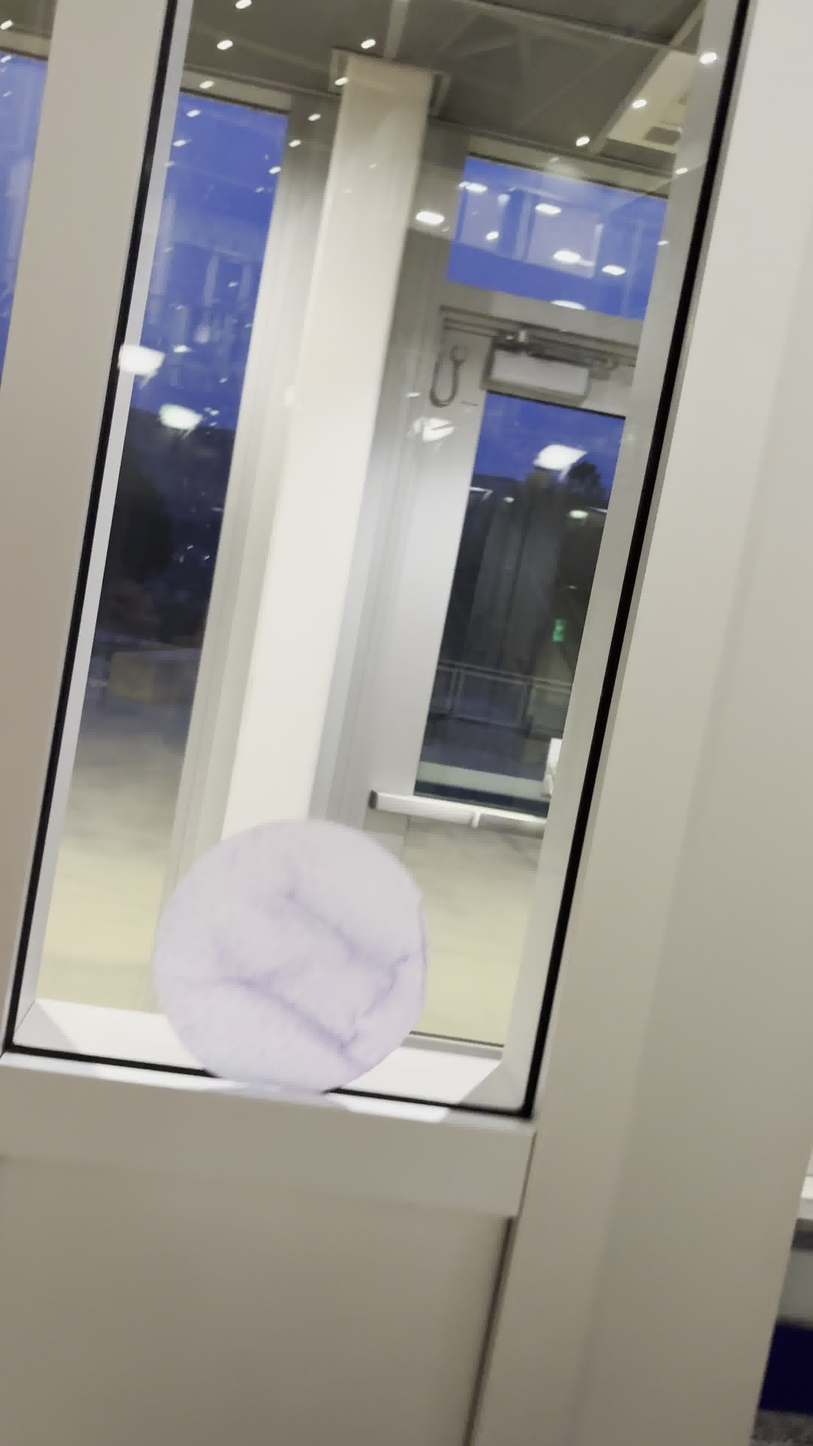Target: (148, 810, 431, 1095)
